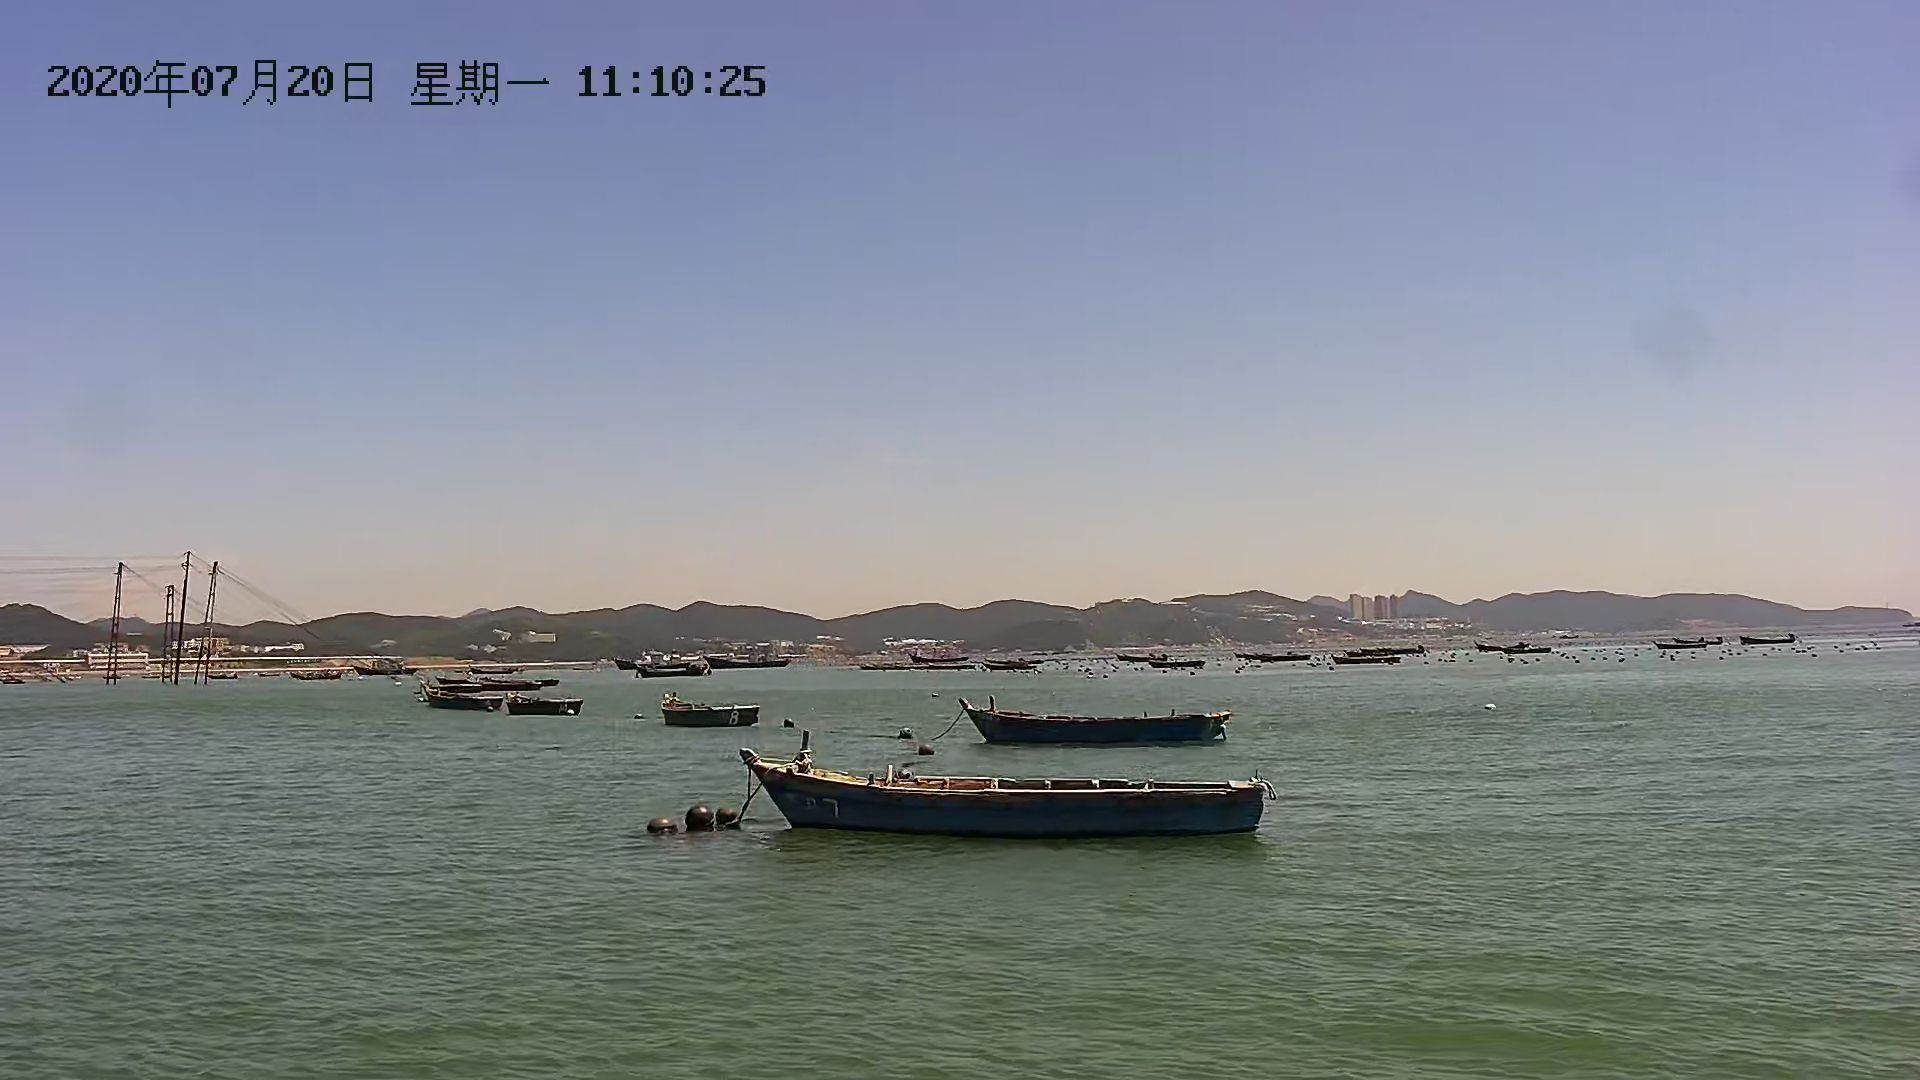ball: (678, 800, 721, 833), (712, 800, 749, 832), (640, 812, 676, 841)
boat: (738, 742, 1271, 837), (955, 688, 1232, 750), (653, 684, 764, 735), (501, 687, 582, 721), (423, 683, 506, 716), (1124, 646, 1207, 673), (1324, 650, 1400, 675), (1452, 632, 1540, 653), (634, 661, 712, 683), (348, 650, 411, 676), (1727, 629, 1804, 647), (1652, 640, 1721, 655), (1250, 649, 1309, 665)
mast: (102, 559, 131, 688), (196, 563, 219, 688), (161, 572, 181, 688), (171, 553, 187, 692)
